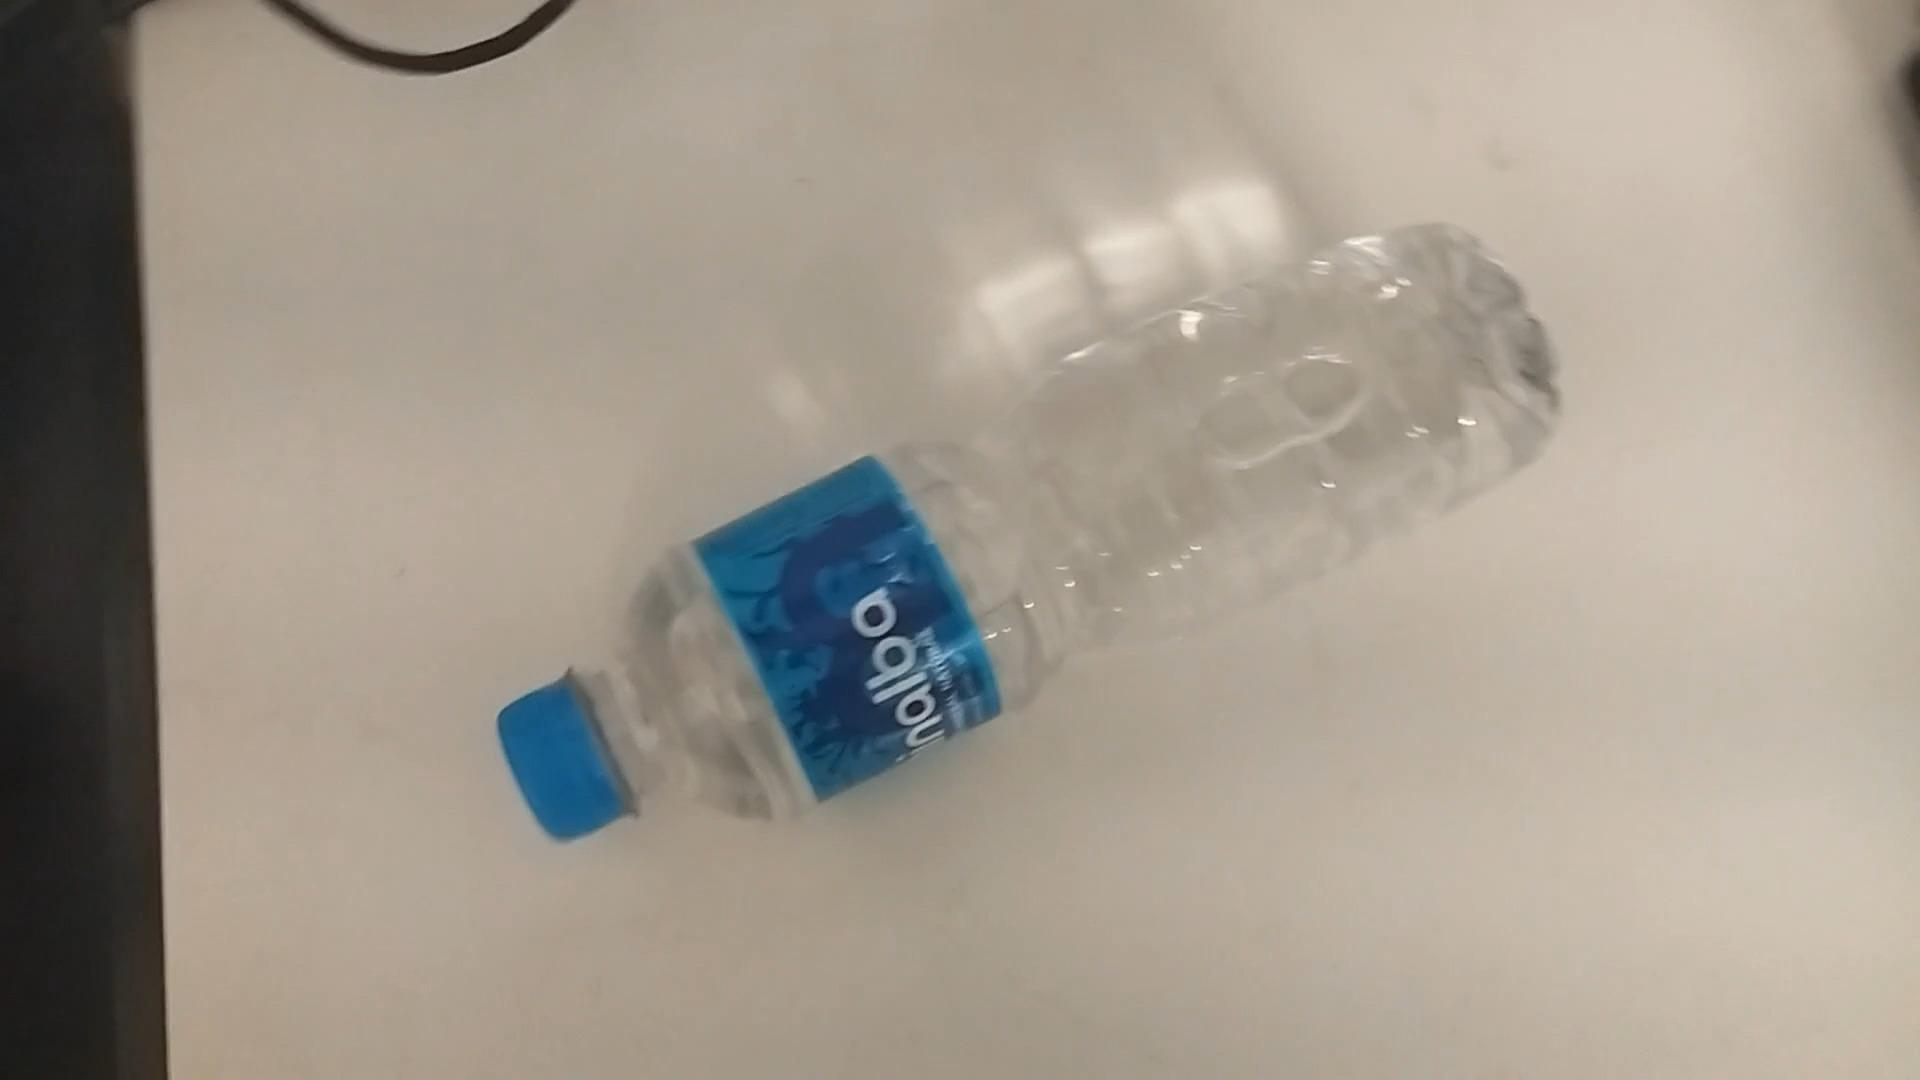agua: (497, 231, 1535, 844)
